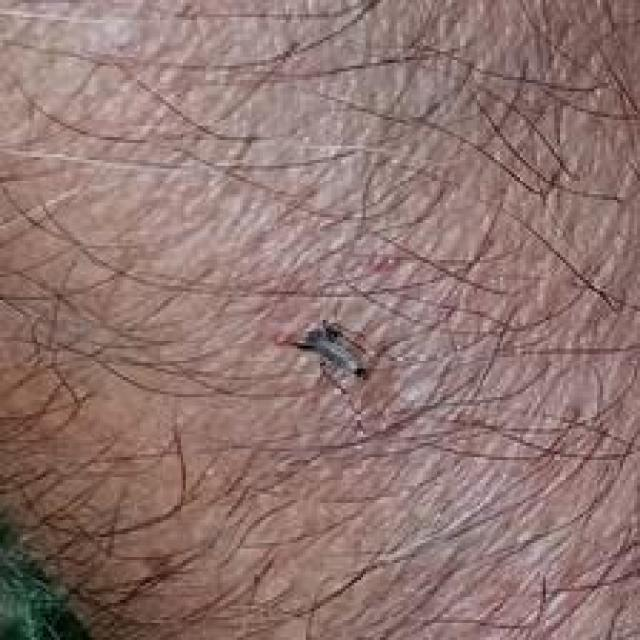Aedes albopictus: (293, 317, 370, 383)
